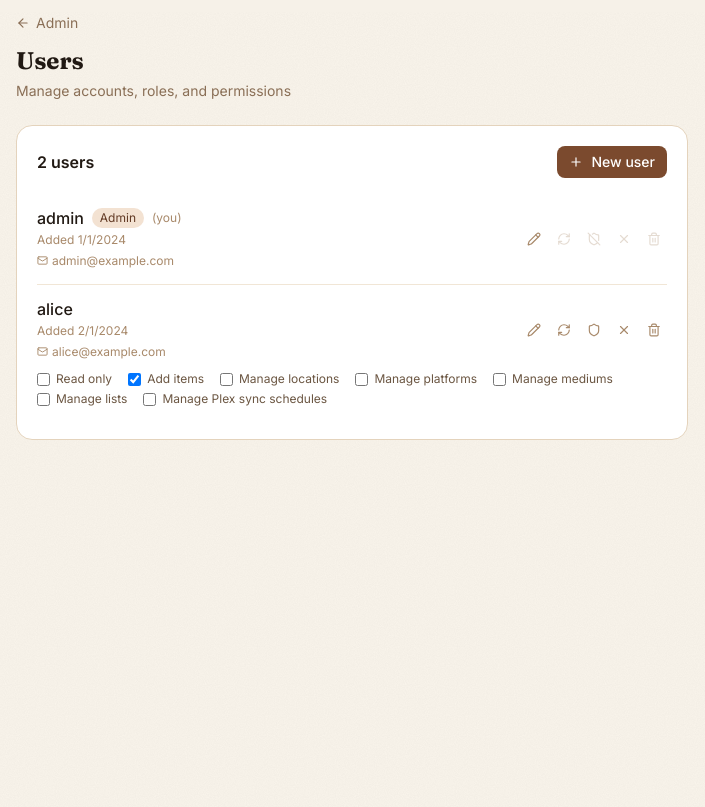
Test case: AdminUsers › creates a user (invite-only, no password field) and reloads the list
The width and height of the screenshot is (705, 807).
Check: the text "alice" is shown, box [37,297,73,321]
Click the button "New user" at (612, 162), box [558,146,667,178]
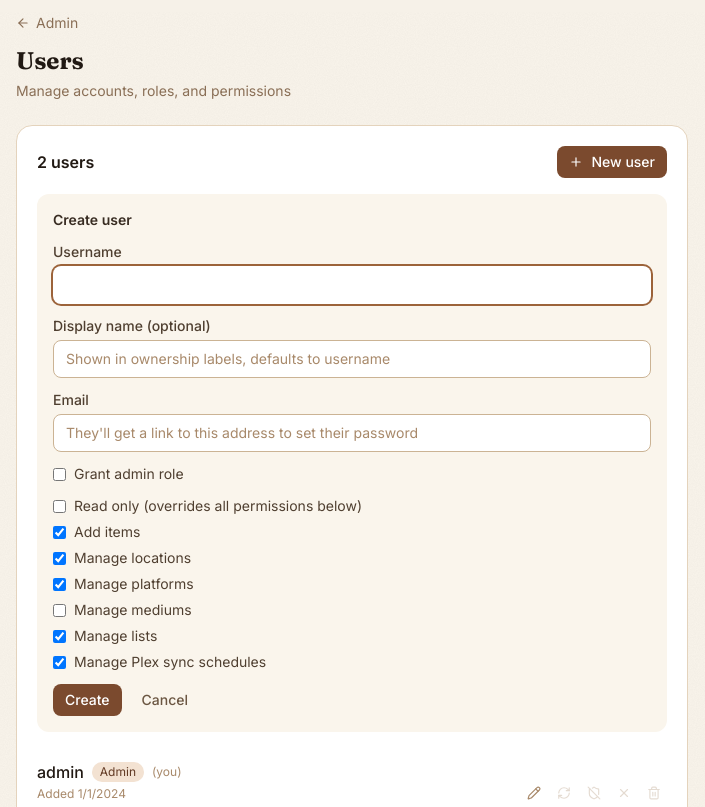
Type "bob" into the 1st field at (352, 285), box [53,266,651,304]
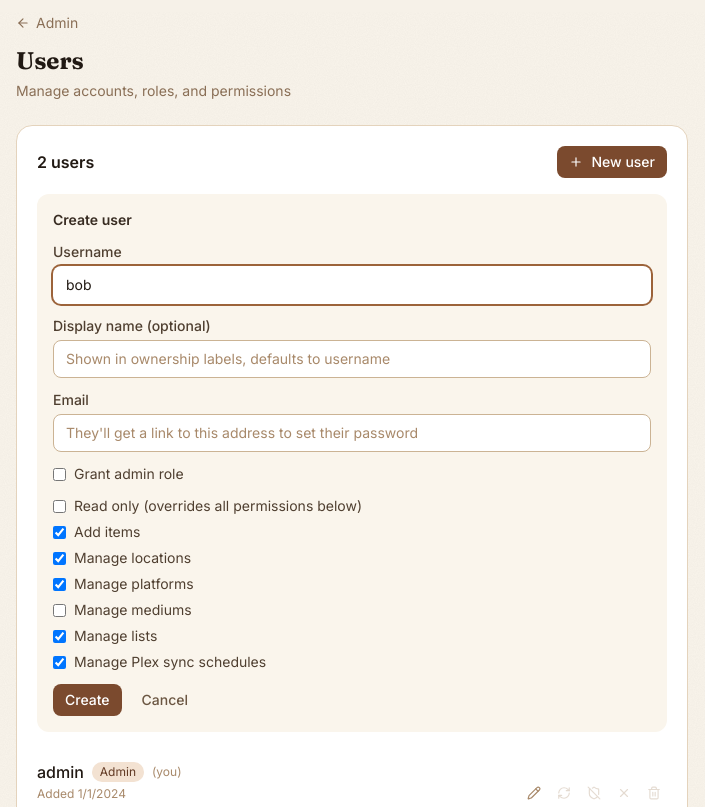
Type "bob@example.com" into the field with placeholder "They'll get a link to this address to set their password" at (352, 433), box [53,414,651,452]
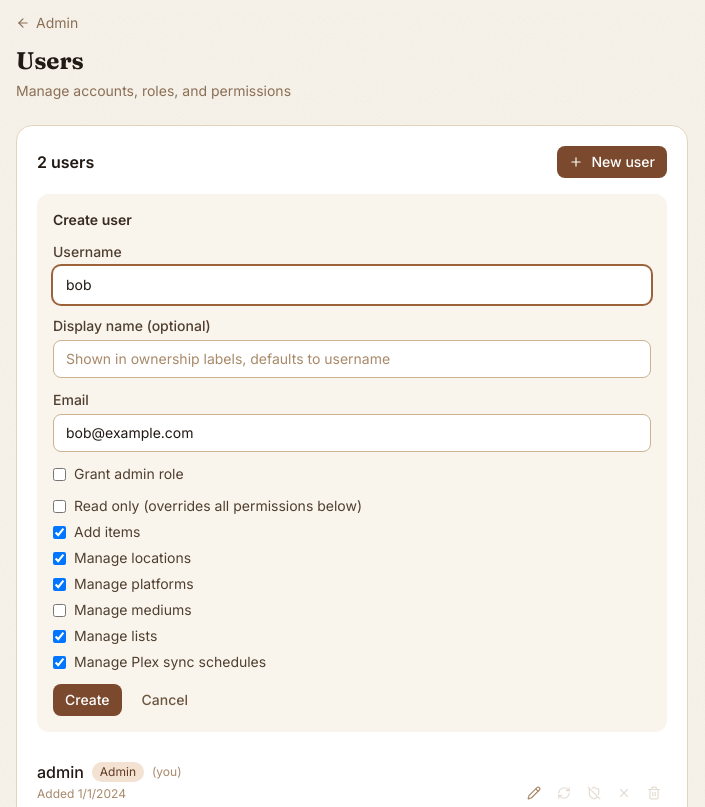
Click the button "Create" at (87, 700), box [53,684,122,716]
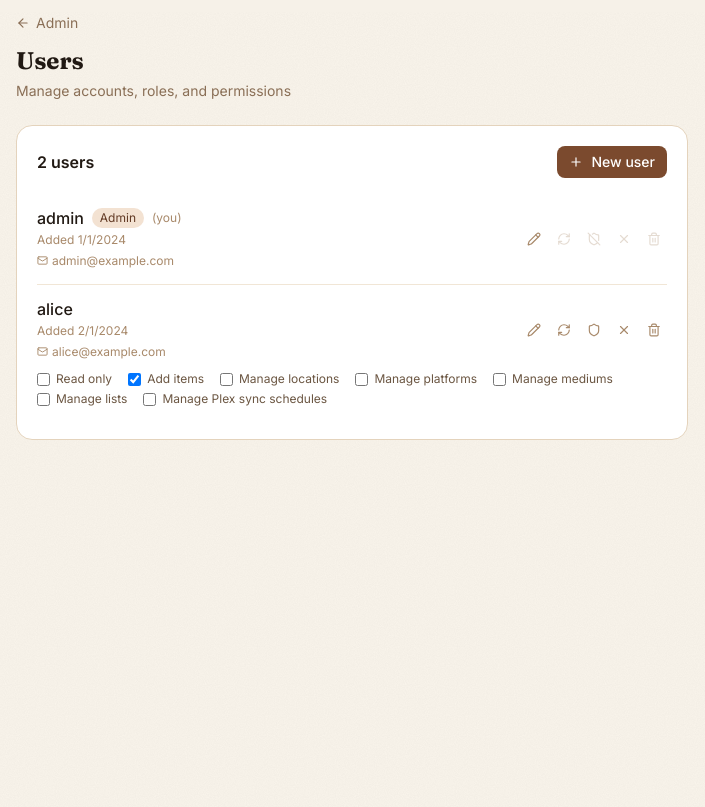
Check: the heading "Create user" is gone
